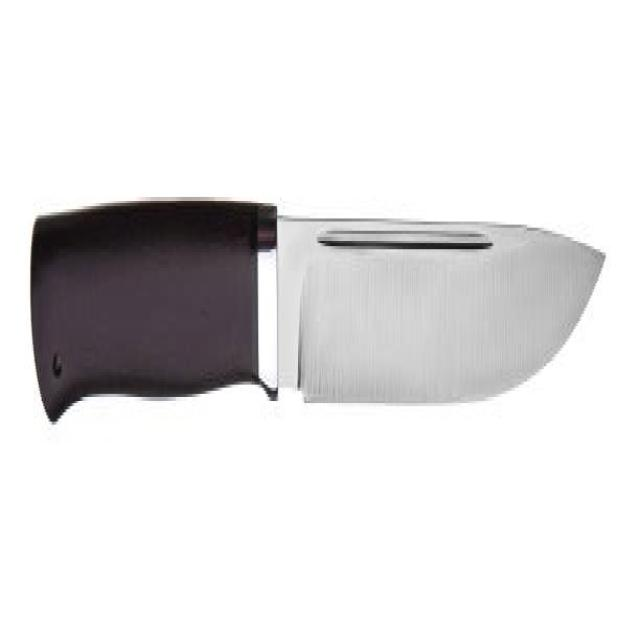knife: (29, 179, 612, 488)
